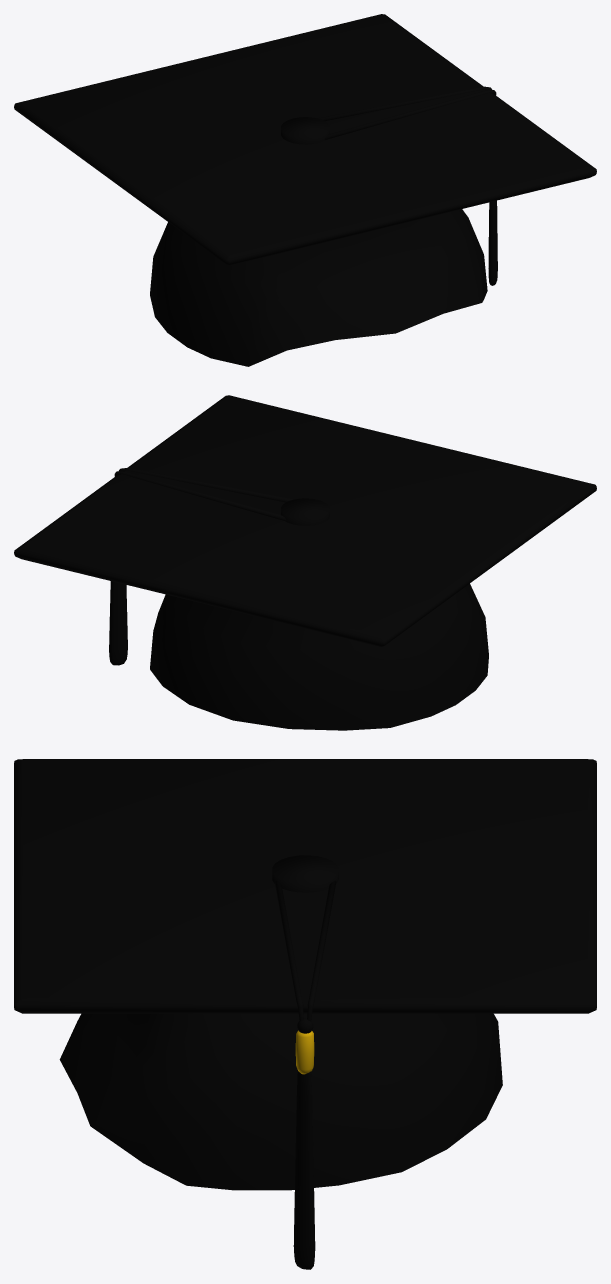
The picture shows the model from 3 angles, top to bottom: view 1: azimuth 30°, elevation 25°; view 2: azimuth 150°, elevation 25°; view 3: azimuth 270°, elevation 25°; orthographic projection. The views are drawn at different scales.
Visible parts, largest first — view 1: universityHat; view 2: universityHat; view 3: universityHat.
Part boxes in pixels (left/top/right/bottom): universityHat: left=14, top=14, right=596, bottom=366; universityHat: left=14, top=395, right=596, bottom=730; universityHat: left=14, top=759, right=596, bottom=1269.
Size of the model in its own units: 0.6011 by 0.3071 by 0.5884.
Materials: 2 (2 with a texture image).
